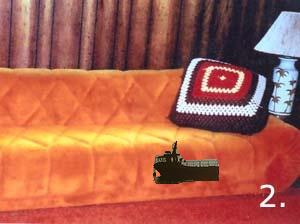tampered: (154, 142, 219, 184)
